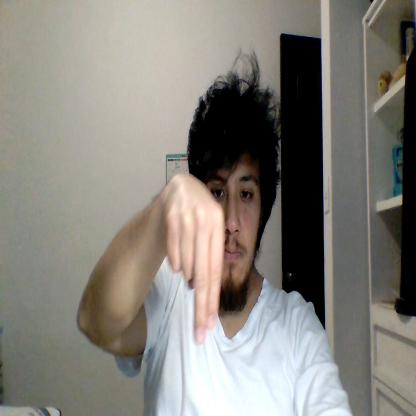N: (167, 174, 224, 344)
